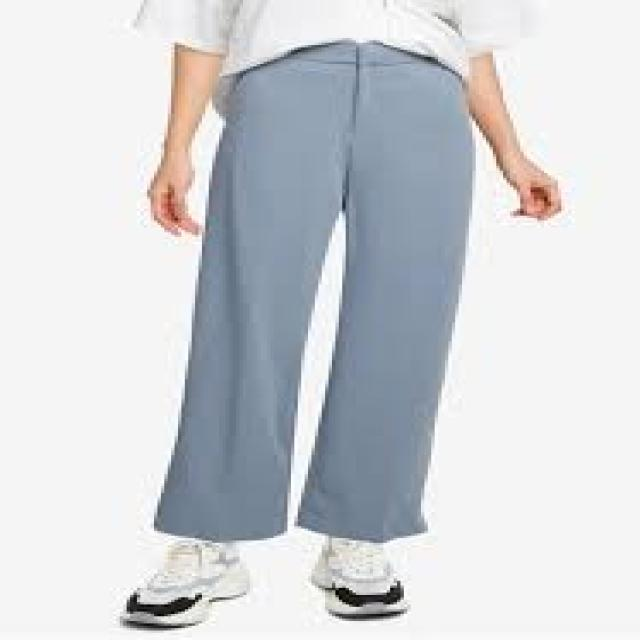pants: (144, 41, 482, 539)
